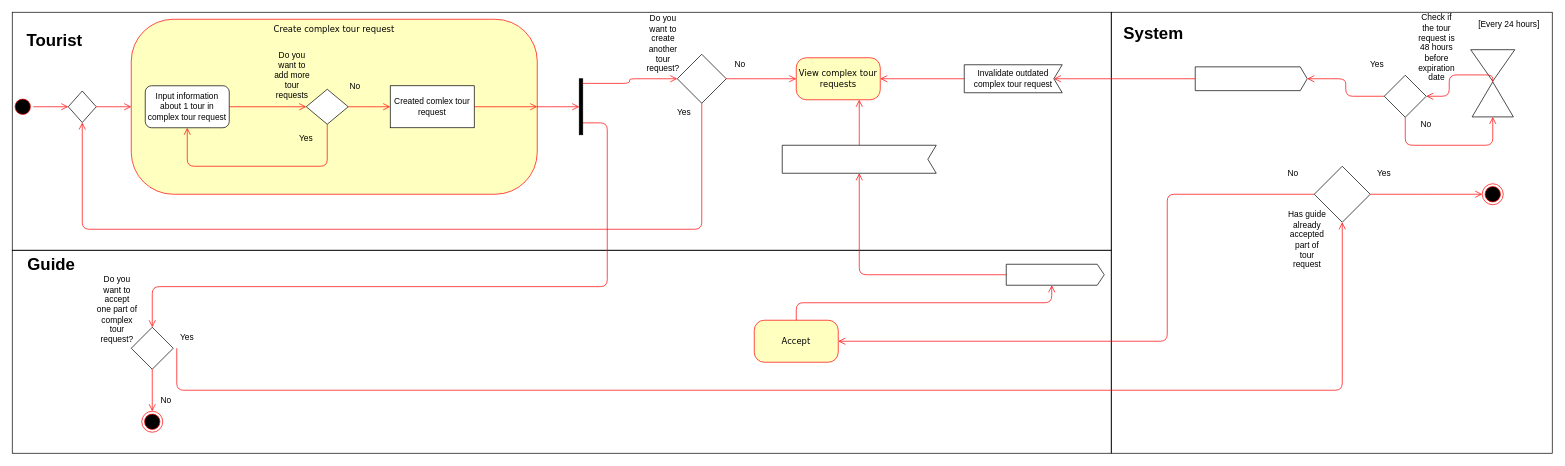
The diagram is 1565 pixels wide and 466 high, and some of its shapes have lost their labels. Each missing label, with the centre of its shape:
"Change status of part of the complex tour request to accepted" belongs at [859,159].
"Check if the tour request is outdated" belongs at [1251,78].
"Part of comlex tour request accepted" belongs at [1055,274].
